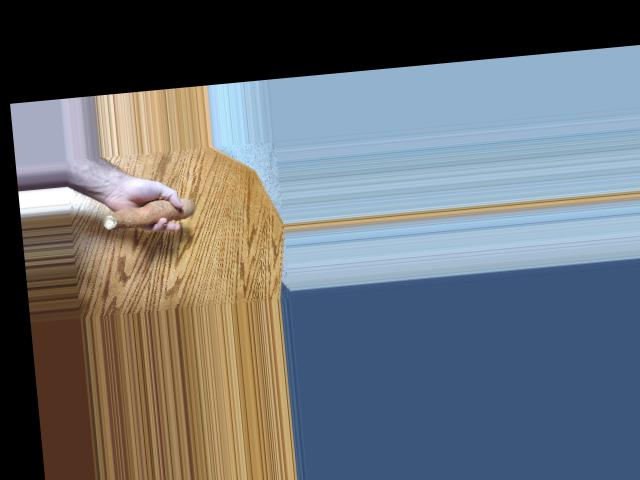sweet_potato: (98, 201, 202, 234)
